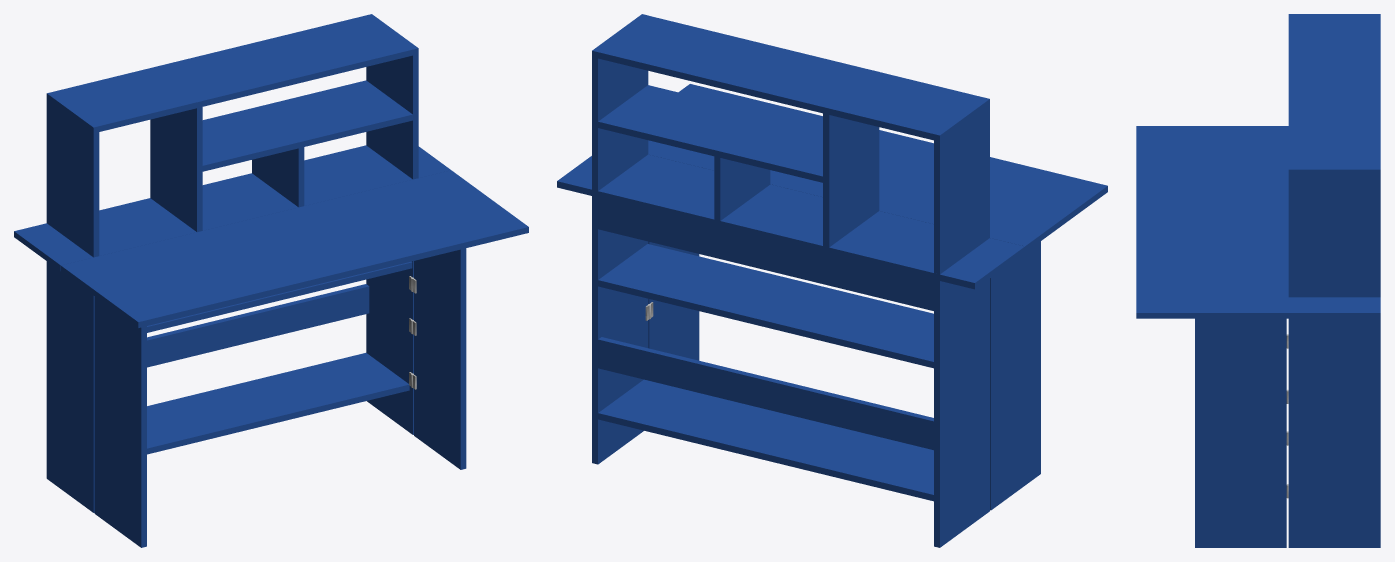
The model's file is study_table.obj.
3 renders of one model, left to right at view 1: azimuth 30°, elevation 25°; view 2: azimuth 150°, elevation 25°; view 3: azimuth 270°, elevation 25°, orthographic. The views are drawn at different scales.
Visible parts, largest first — view 1: Box006_1, Box004_1, Box012_1, Box016_1, Box017_1; view 2: Box006_1, Box012_1, Box004_1, Box016_1, Box017_1; view 3: Box006_1, Box004_1, Box017_1, Box012_1.
Part boxes in pixels (left/top/right/bottom): Box006_1: left=46, top=14, right=418, bottom=512; Box004_1: left=14, top=145, right=528, bottom=327; Box012_1: left=46, top=261, right=412, bottom=467; Box016_1: left=94, top=296, right=146, bottom=547; Box017_1: left=414, top=248, right=466, bottom=469; Box006_1: left=592, top=14, right=989, bottom=547; Box012_1: left=592, top=190, right=986, bottom=502; Box004_1: left=557, top=84, right=1107, bottom=289; Box016_1: left=990, top=241, right=1040, bottom=510; Box017_1: left=648, top=241, right=699, bottom=360; Box006_1: left=1288, top=14, right=1380, bottom=547; Box004_1: left=1136, top=126, right=1380, bottom=318; Box017_1: left=1195, top=318, right=1286, bottom=547; Box012_1: left=1289, top=378, right=1380, bottom=506.
Size of the model in its own units: 47.19 by 44.5 by 26.02.
4 materials, 3 textured.
